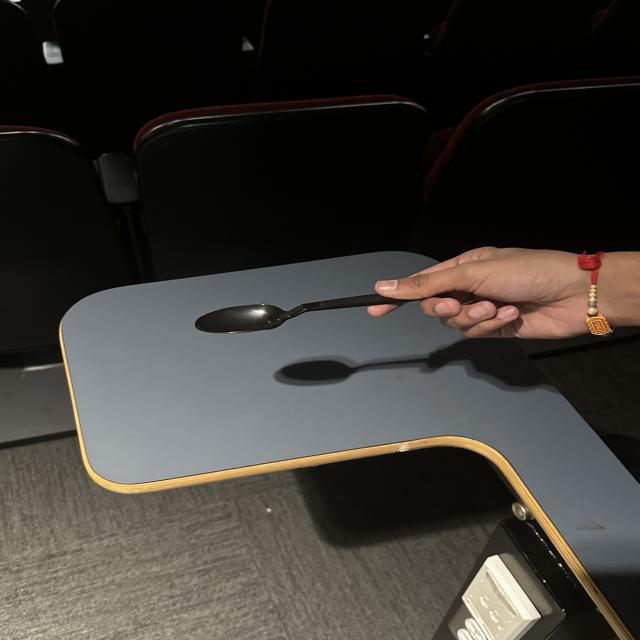spoon: (163, 265, 499, 361)
